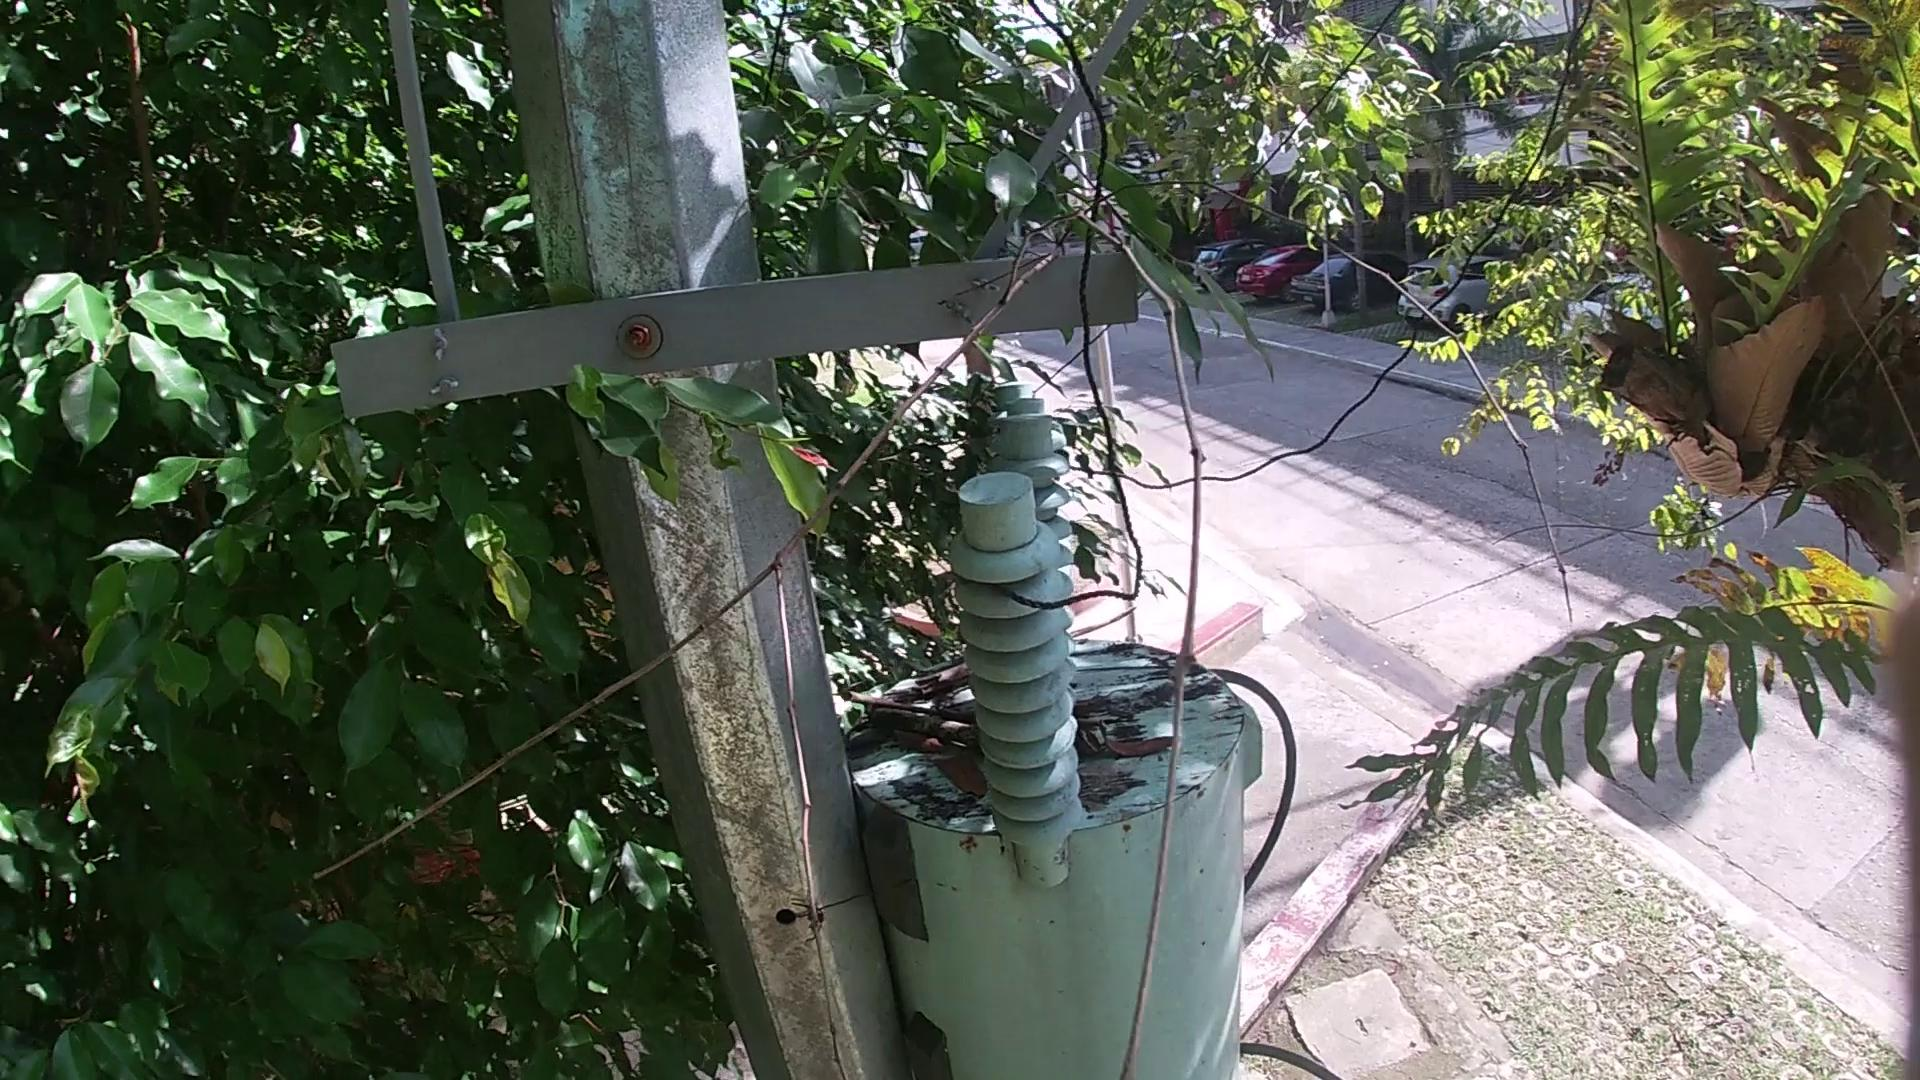leaf: (1093, 717, 1178, 765), (930, 746, 992, 807), (894, 731, 945, 756)
tree branch: (305, 167, 1581, 1073), (866, 694, 992, 756), (913, 658, 975, 705)
